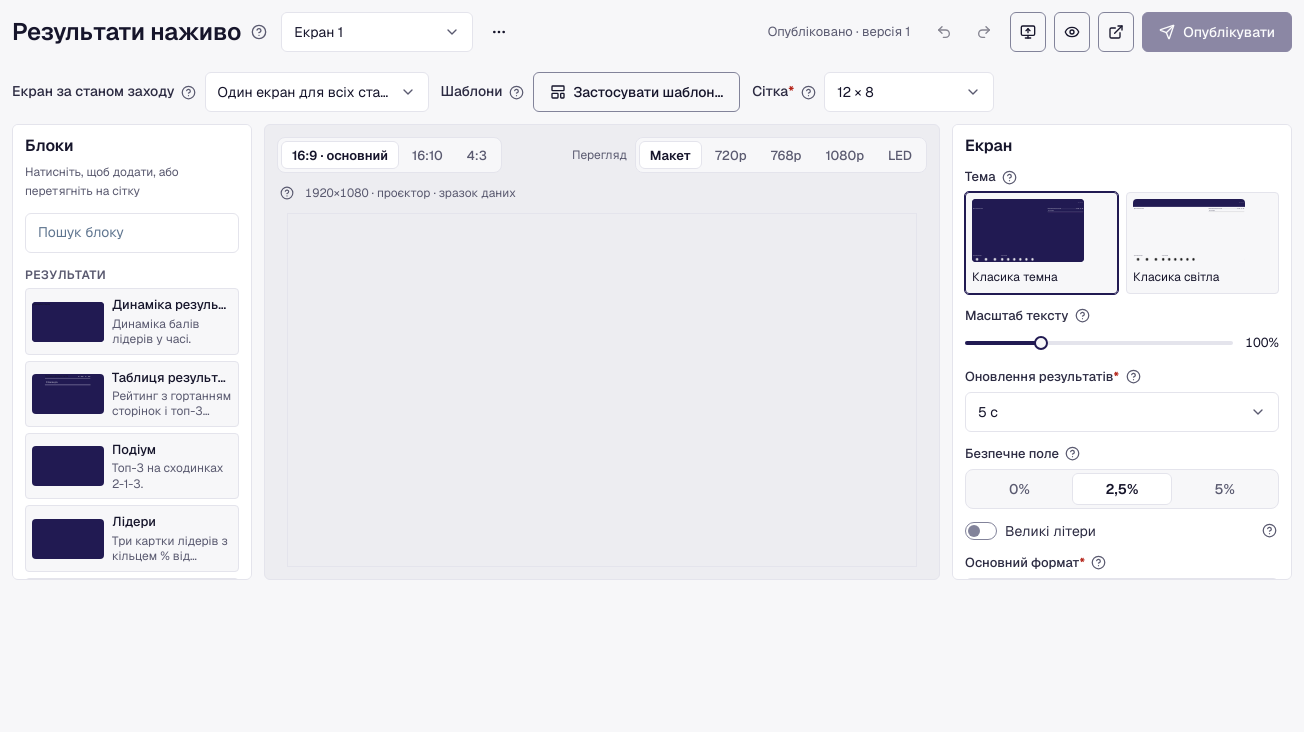
Test: live editor › saves the draft by itself and shows the unpublished state
Step 1. Click the radio button named "Класика світла" → (1202, 243), box x1=1126 y1=192 x2=1279 y2=294
Wait 1000 ms
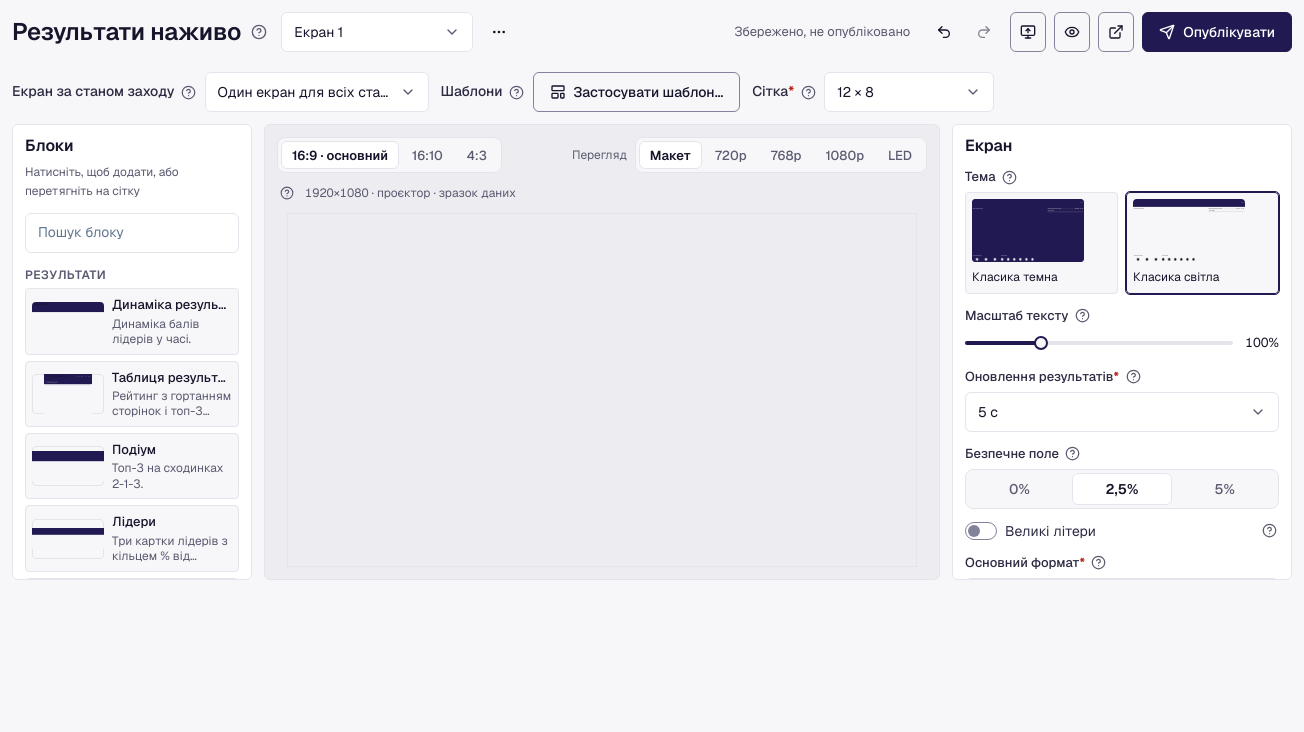
Check: the message with class "event-live-editor__status" shows "не опубліковано", box x1=735 y1=23 x2=910 y2=40
Check: the button "Опублікувати" is enabled, box x1=1142 y1=12 x2=1292 y2=52
